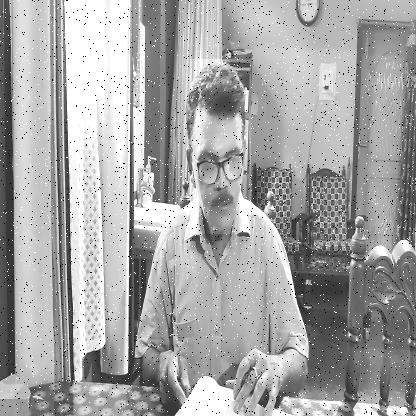Normal: (190, 59, 251, 234)
